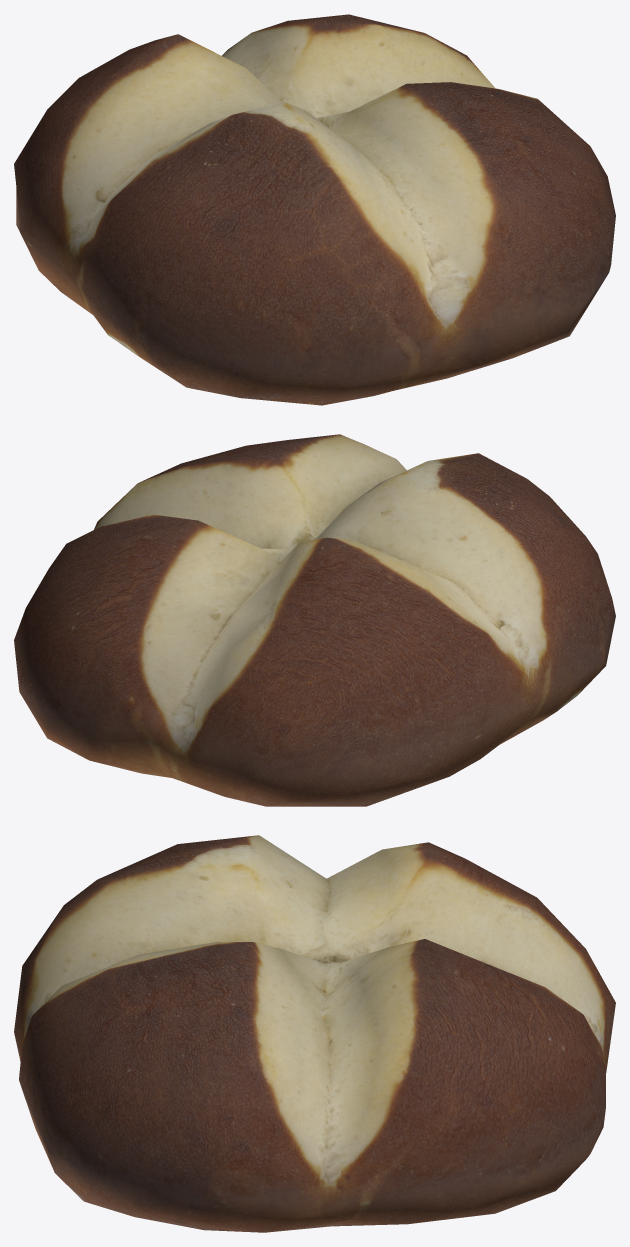
File: 3DBread002_LQ-1K-JPG.obj
3 renders of one model, top to bottom at view 1: azimuth 30°, elevation 25°; view 2: azimuth 150°, elevation 25°; view 3: azimuth 270°, elevation 25°, orthographic. The views are drawn at different scales.
Parts seen in each view (by area): view 1: 3DBread002_LQ-1K-JPG; view 2: 3DBread002_LQ-1K-JPG; view 3: 3DBread002_LQ-1K-JPG.
Part boxes in pixels (x1,y1,x2,y2): 3DBread002_LQ-1K-JPG: (14, 14, 615, 405); 3DBread002_LQ-1K-JPG: (14, 434, 615, 806); 3DBread002_LQ-1K-JPG: (14, 835, 615, 1232).
Size of the model in its own units: 0.1175 by 0.0536 by 0.1193.
1 material, 1 textured.
